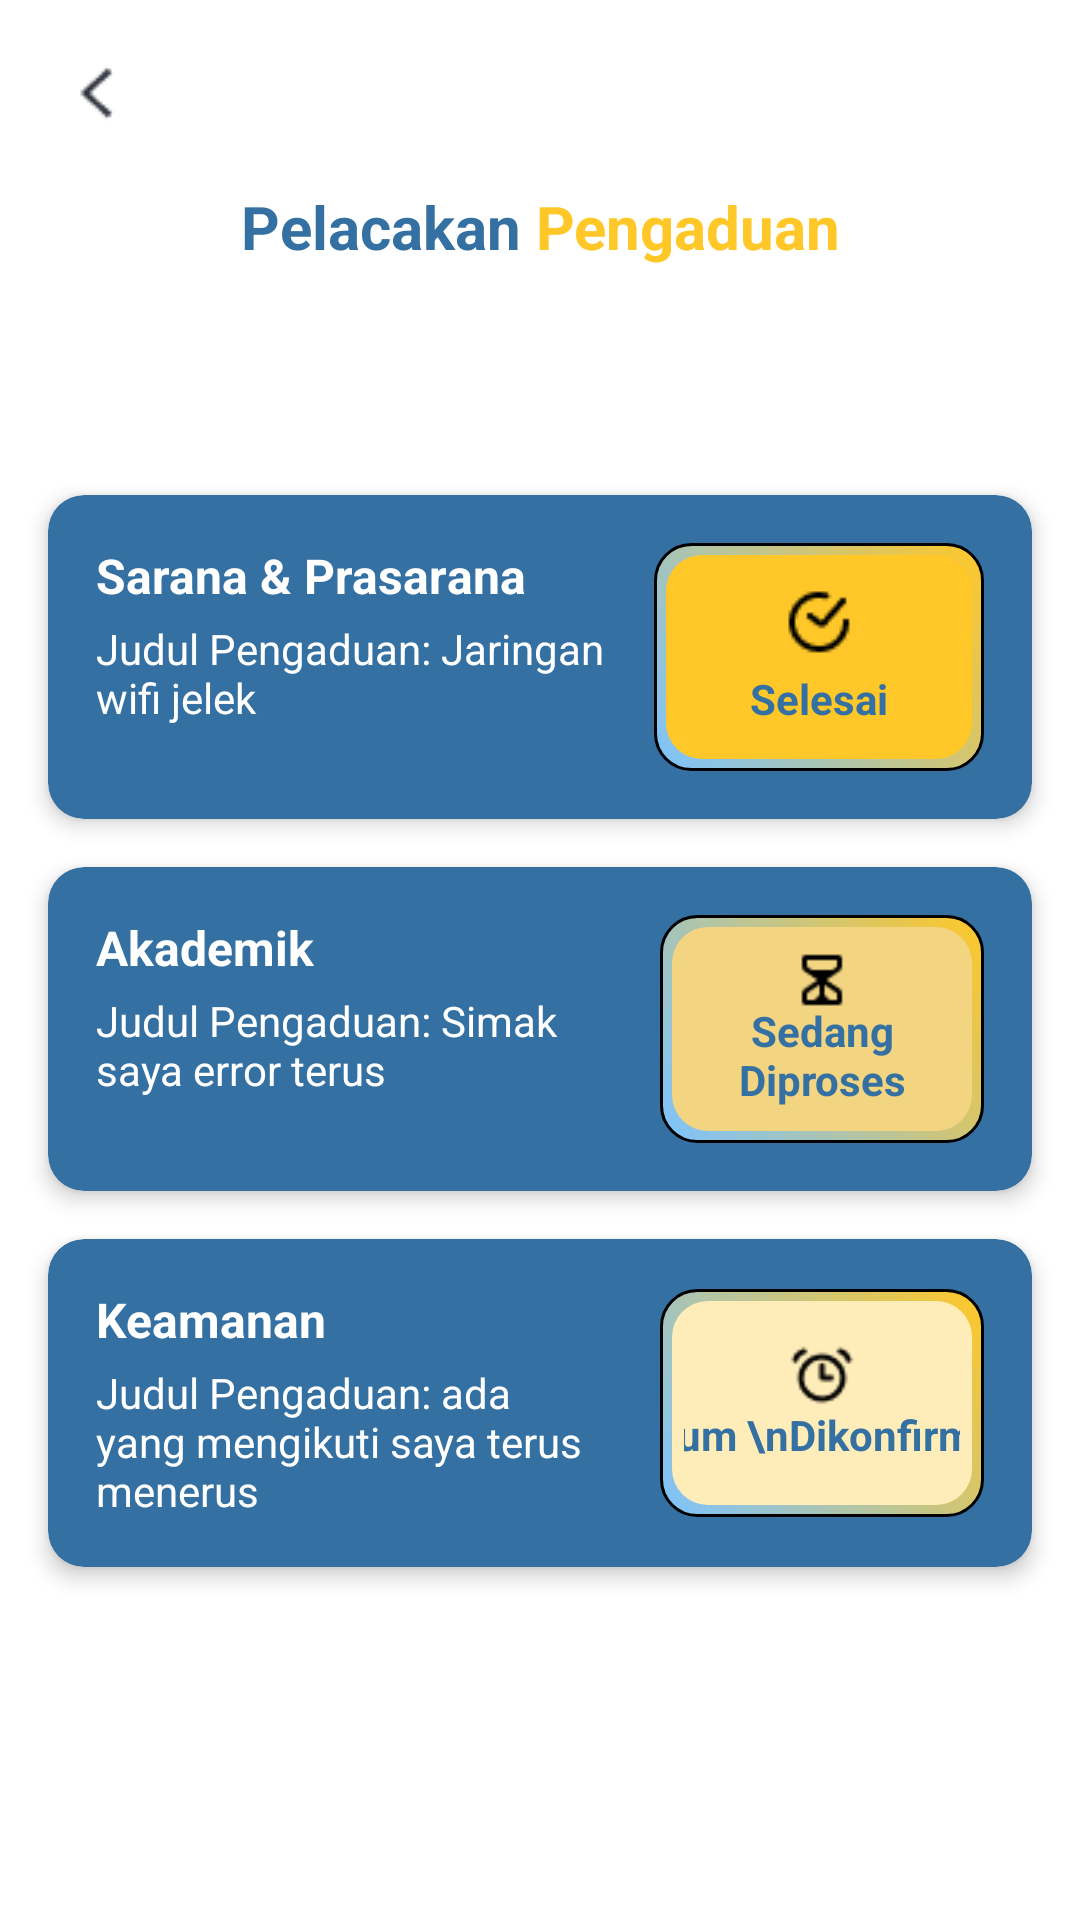

Point at icon controls on the screen. Image size 1080px×1920px, points as (x,y).
back arrow: (96,93)
pending: (822,1375)
